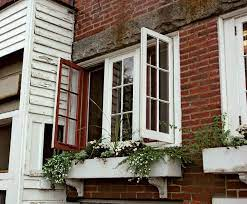Window: (71, 36, 178, 152)
